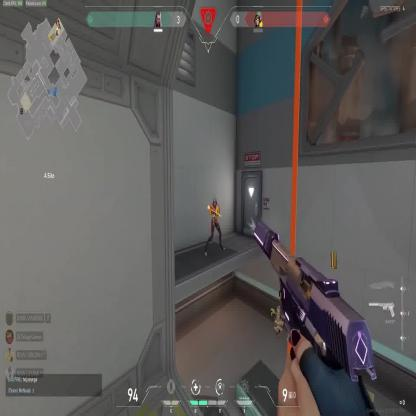enemy: (204, 197, 226, 256)
enemy_head: (213, 197, 217, 208)
